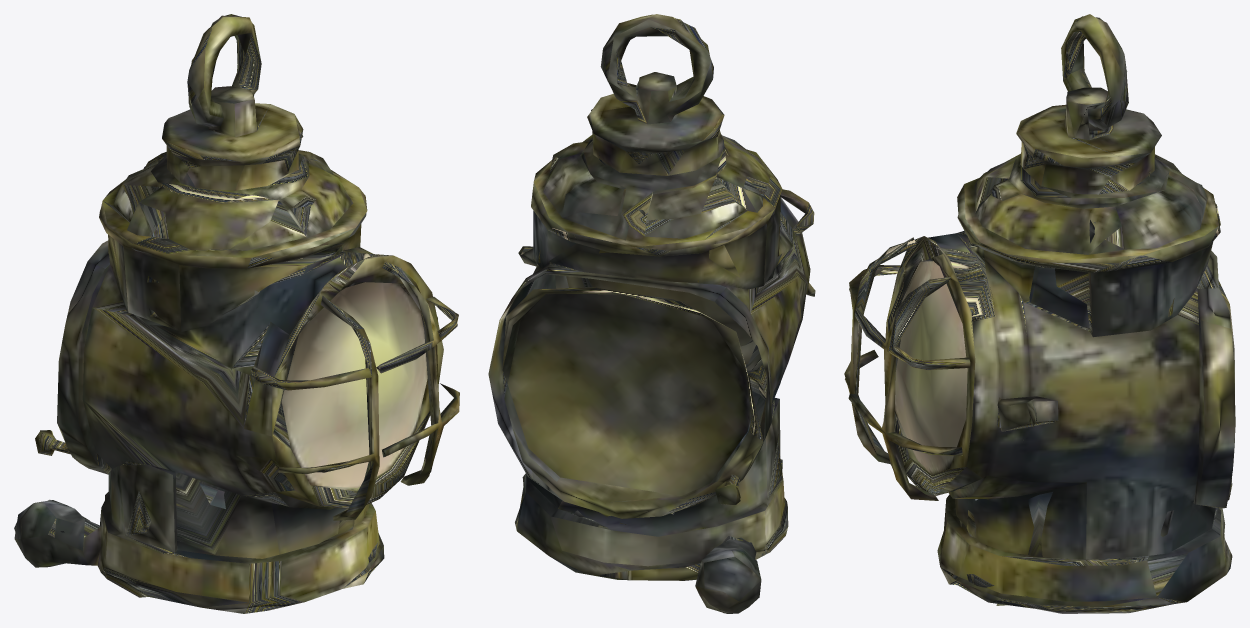
Rendered from lantern.glb.
3 views of the same model, side by side, from view 1: azimuth 30°, elevation 25°; view 2: azimuth 150°, elevation 25°; view 3: azimuth 270°, elevation 25° (orthographic). The views are drawn at different scales.
Parts seen in each view (by area): view 1: geometry_0; view 2: geometry_0; view 3: geometry_0.
Boxes of the visible parts, x1,y1,x2,y2 form: geometry_0: [14, 14, 459, 613]; geometry_0: [488, 14, 815, 613]; geometry_0: [844, 14, 1235, 613].
Size of the model in its own units: 0.5534 by 0.8904 by 0.5655.
Materials: 1 (1 with a texture image).
